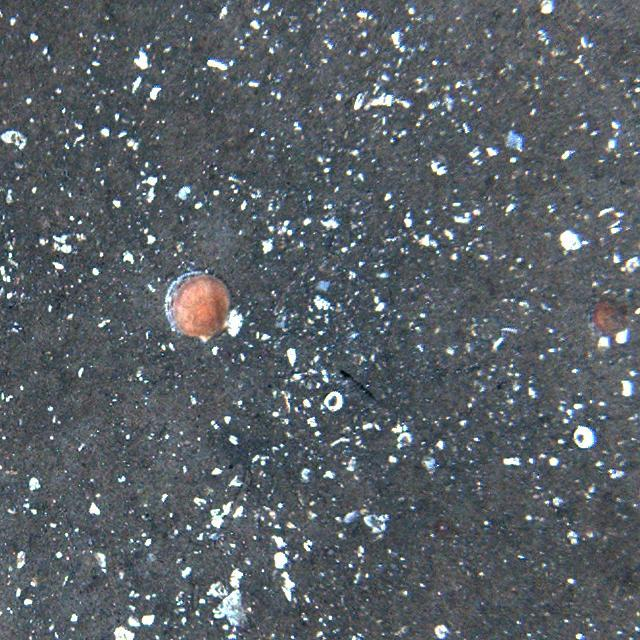scallop: (166, 266, 233, 346)
